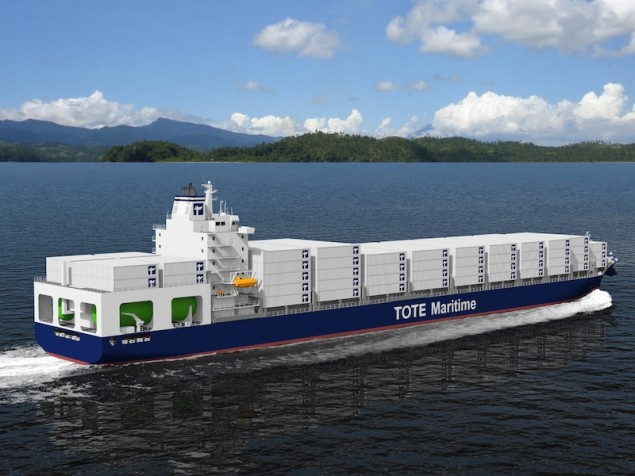Cargoship: (26, 177, 616, 359)
